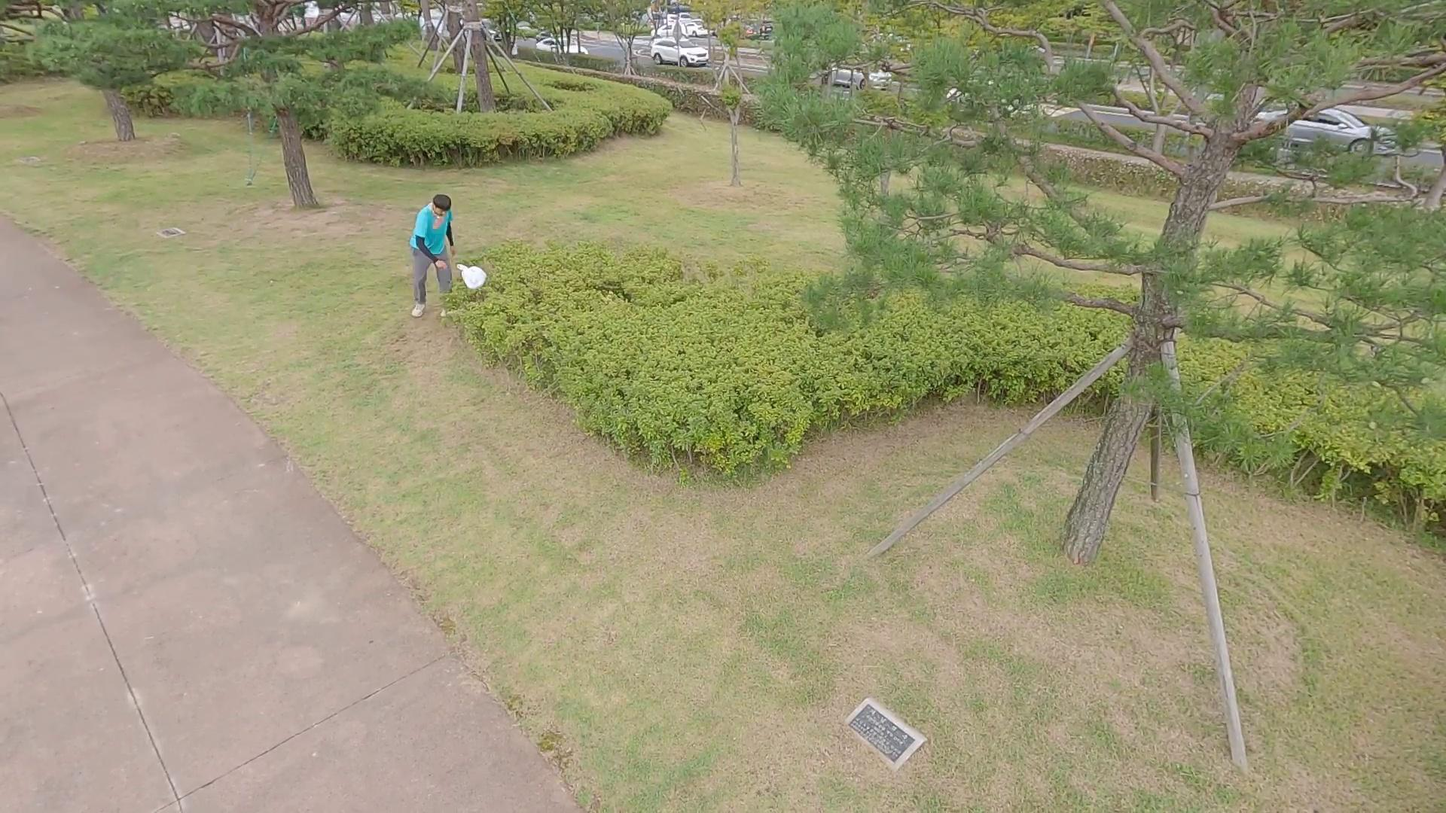person: (410, 185, 461, 322)
trash: (454, 256, 490, 293)
